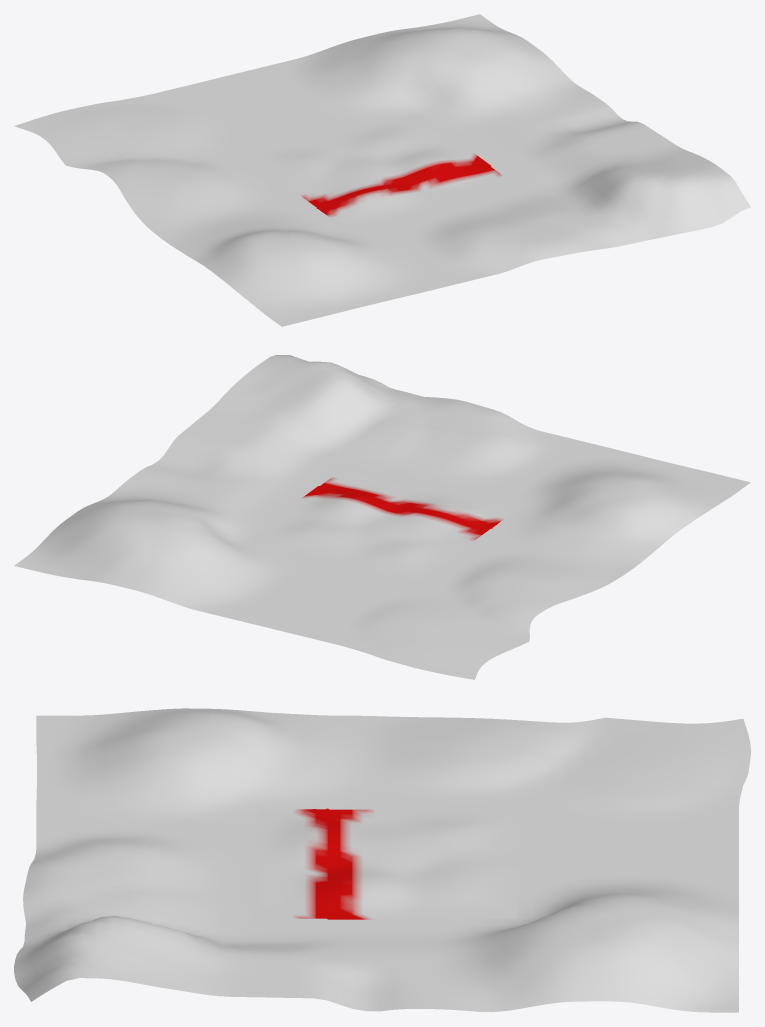
File: Lawn.fbx
3 renders of one model, top to bottom at view 1: azimuth 30°, elevation 25°; view 2: azimuth 150°, elevation 25°; view 3: azimuth 270°, elevation 25°, orthographic. The views are drawn at different scales.
Parts seen in each view (by area): view 1: LawnBackground, Lawn; view 2: LawnBackground, Lawn; view 3: LawnBackground, Lawn.
Part boxes in pixels (x1,y1,x2,y2): LawnBackground: (14, 14, 750, 326); Lawn: (245, 113, 517, 227); LawnBackground: (14, 355, 750, 679); Lawn: (247, 466, 517, 582); LawnBackground: (14, 708, 750, 1012); Lawn: (256, 808, 518, 919).
Bounding box in the file's own units: 28.23 × 1.83 × 29.46.
